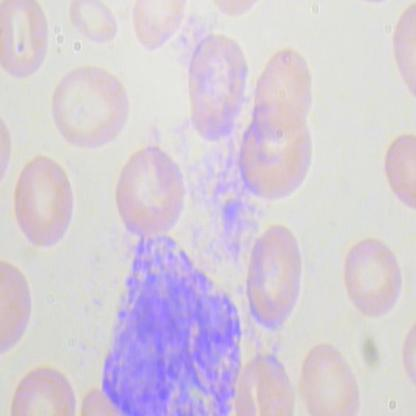RBC: (48, 60, 132, 158), (112, 146, 194, 242), (182, 33, 248, 147), (244, 224, 309, 330), (252, 43, 315, 149), (340, 235, 412, 326), (10, 155, 78, 250), (294, 341, 365, 415), (0, 0, 54, 84), (233, 348, 299, 416), (4, 364, 81, 415), (131, 1, 190, 60), (382, 130, 416, 218)
